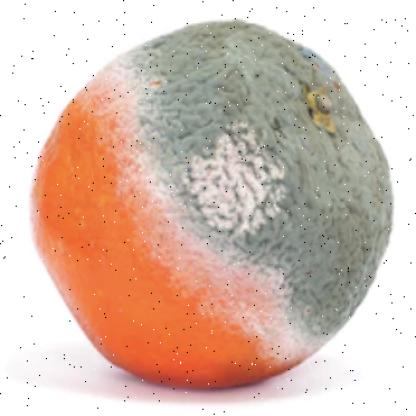rotten: (34, 20, 393, 388)
